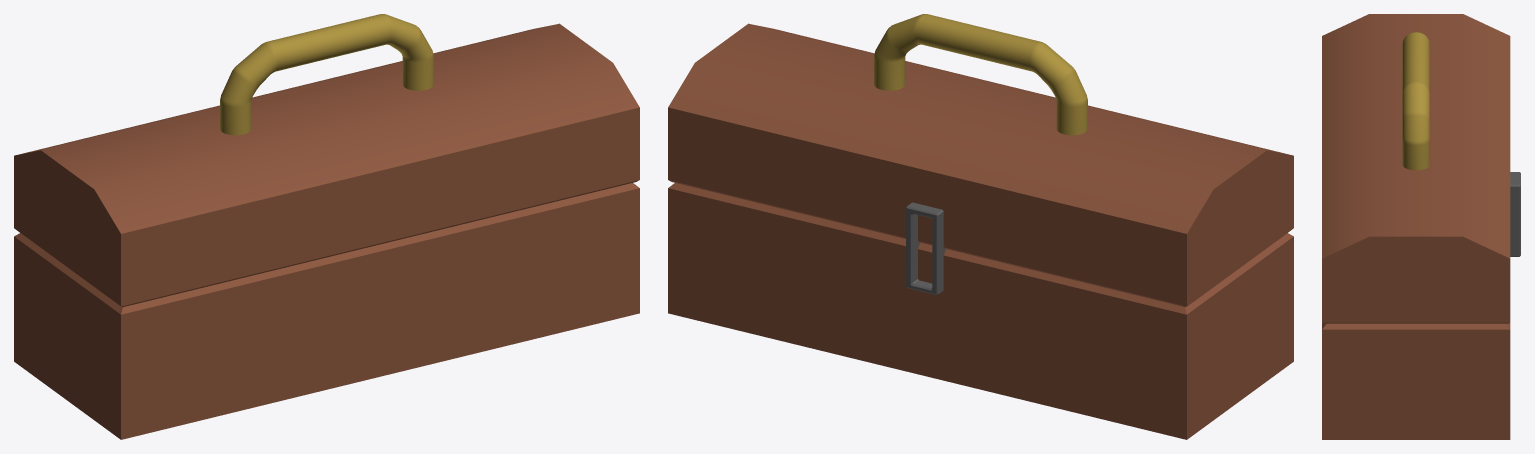
File: toolbox.fbx
The picture shows the model from 3 angles, left to right: view 1: azimuth 30°, elevation 25°; view 2: azimuth 150°, elevation 25°; view 3: azimuth 270°, elevation 25°; orthographic projection. The views are drawn at different scales.
Visible parts, largest first — view 1: Toolbox_geo; view 2: Toolbox_geo; view 3: Toolbox_geo.
Part boxes in pixels (x1=…): Toolbox_geo: x1=14, y1=14, x2=639, y2=439; Toolbox_geo: x1=668, y1=14, x2=1293, y2=439; Toolbox_geo: x1=1322, y1=14, x2=1520, y2=439.
Size of the model in its own units: 85.21 by 48.44 by 32.16.
